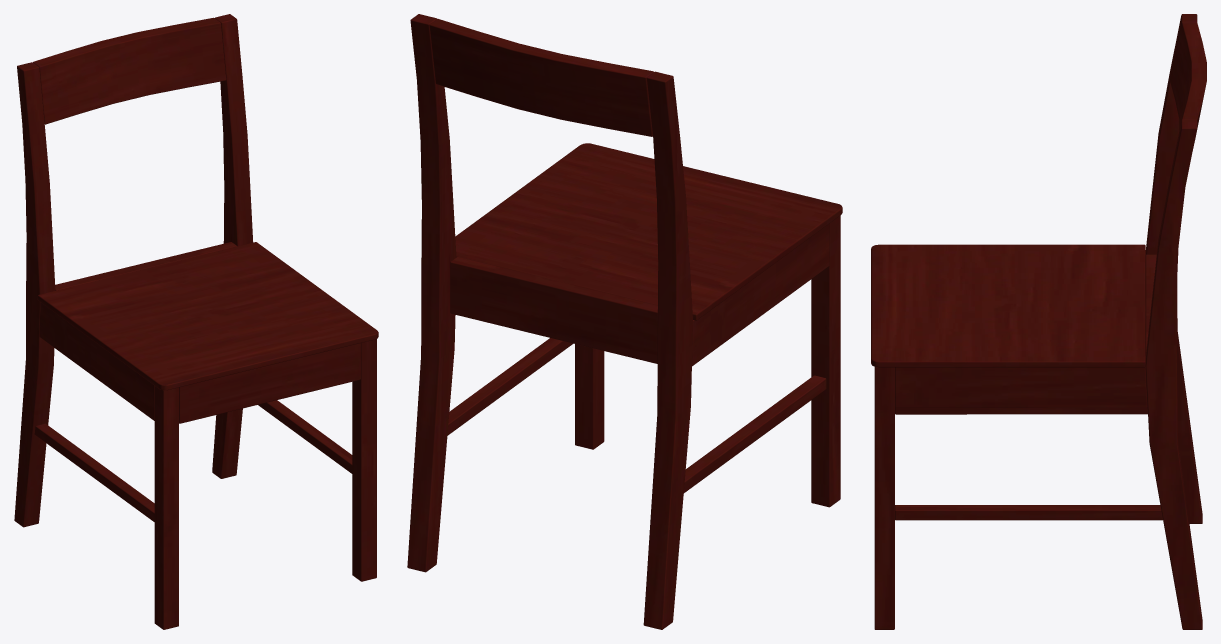
File: wooden_chair.glb
The picture shows the model from 3 angles, left to right: view 1: azimuth 30°, elevation 25°; view 2: azimuth 150°, elevation 25°; view 3: azimuth 270°, elevation 25°; orthographic projection. The views are drawn at different scales.
Visible parts, largest first — view 1: Wooden Chair; view 2: Wooden Chair; view 3: Wooden Chair.
Boxes of the visible parts, box(x1,y1,x2,y2) form: Wooden Chair: box(14, 14, 378, 629); Wooden Chair: box(407, 14, 842, 629); Wooden Chair: box(871, 14, 1206, 629).
Bounding box in the file's own units: 0.4102 × 0.818 × 0.4956.
1 material, 1 textured.
